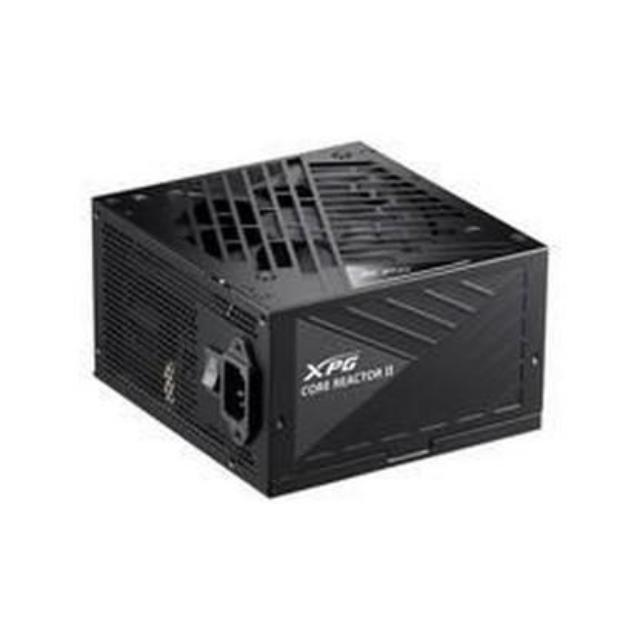PSU: (69, 128, 571, 512)
